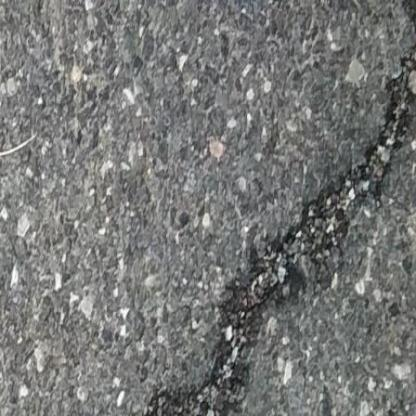Cracks: (141, 239, 370, 415), (266, 46, 416, 273)
